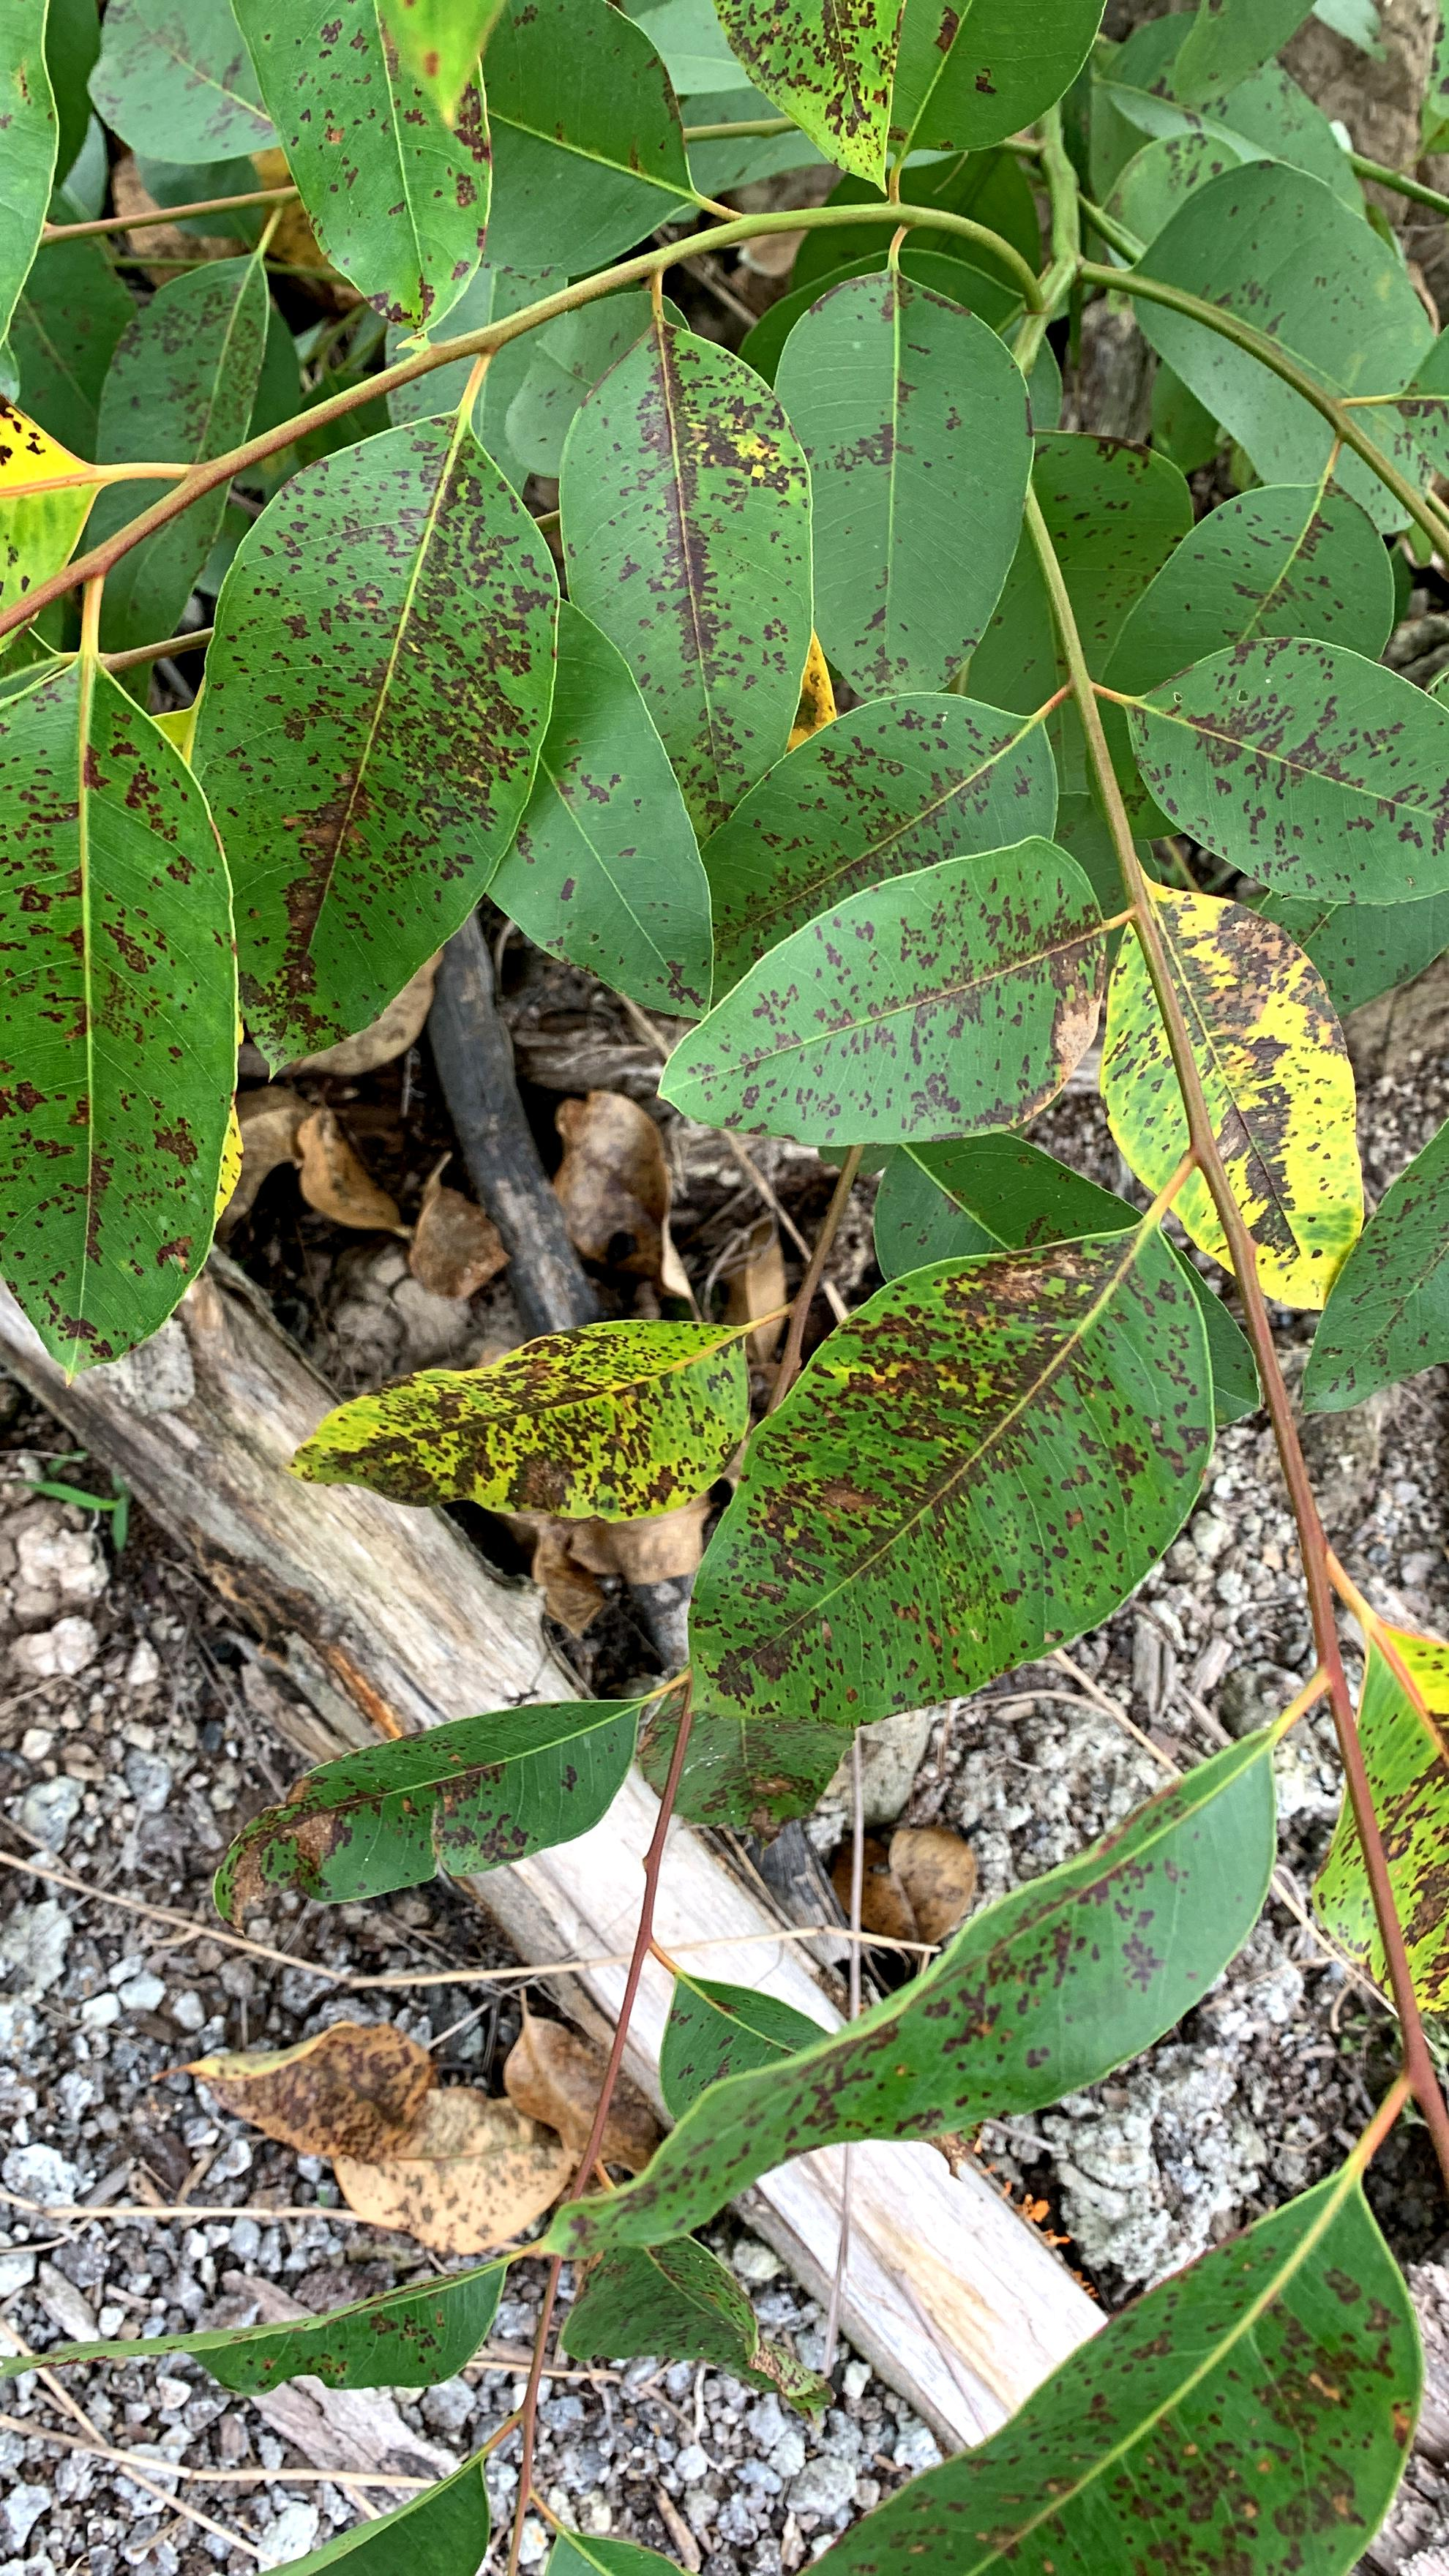Xanthomonas: (554, 1739, 1281, 2277), (702, 1215, 1198, 1755), (812, 2189, 1421, 2576), (209, 414, 564, 1047), (0, 619, 241, 1385), (674, 876, 1102, 1169), (1095, 893, 1382, 1279), (226, 1681, 653, 1920), (235, 0, 522, 320), (692, 732, 1076, 970), (308, 1322, 754, 1522), (605, 326, 803, 773), (1123, 656, 1449, 908), (30, 2250, 517, 2396), (1348, 1654, 1449, 2026), (133, 267, 264, 548), (708, 0, 913, 168)
